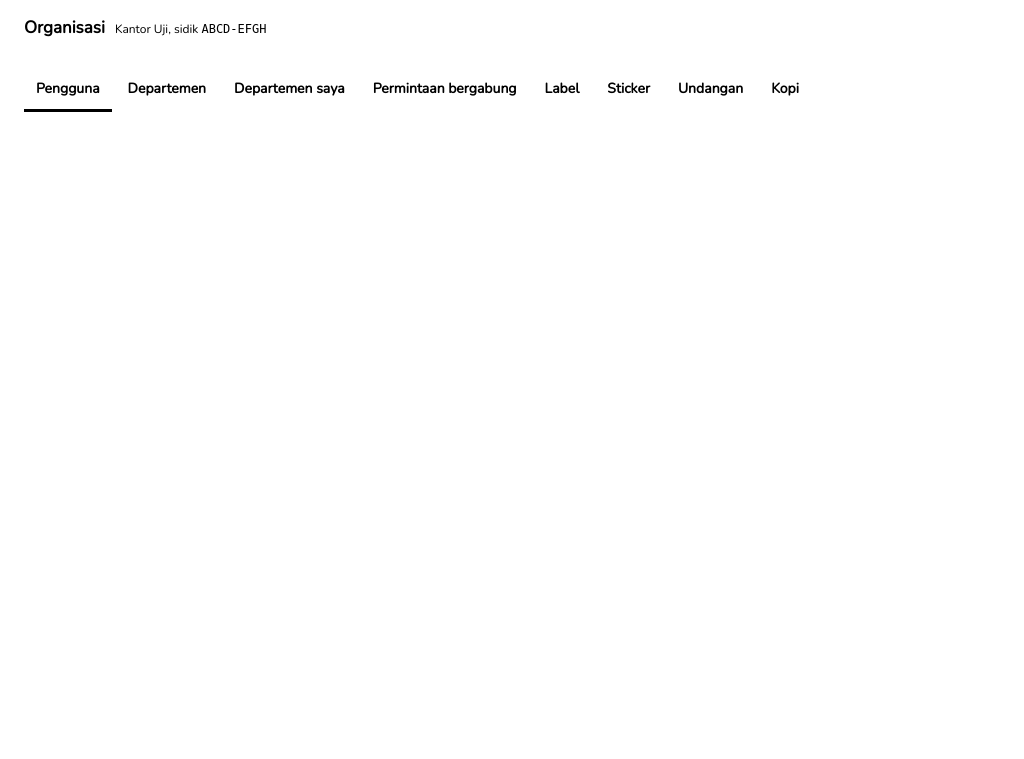
Departemen: keadaan › error menampilkan pesan Rust, Coba lagi memuat ulang
Click the button "Departemen": (167, 90) [116,68,218,112]
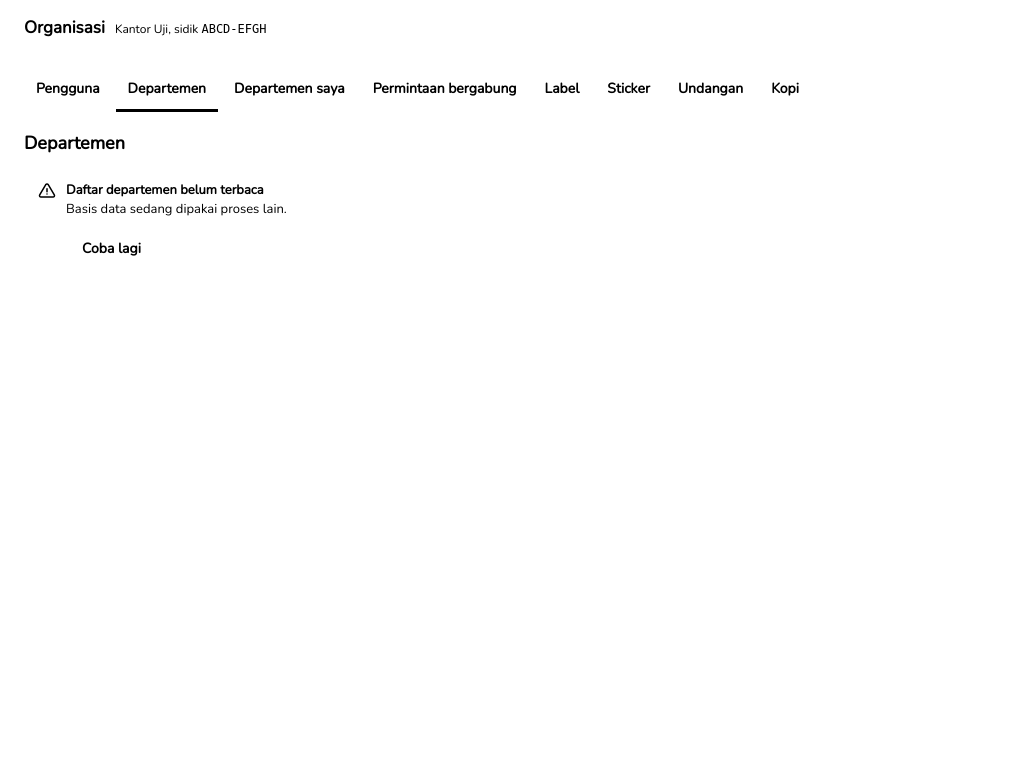
Expected: the message shows "Daftar departemen belum terbaca", [66,180,264,198]
Expected: the message shows "Basis data sedang dipakai proses lain.", [66,200,287,218]
Expected: the heading "Departemen" is shown, [24,130,125,156]
Click the button "Coba lagi": (111, 248) [66,230,157,266]
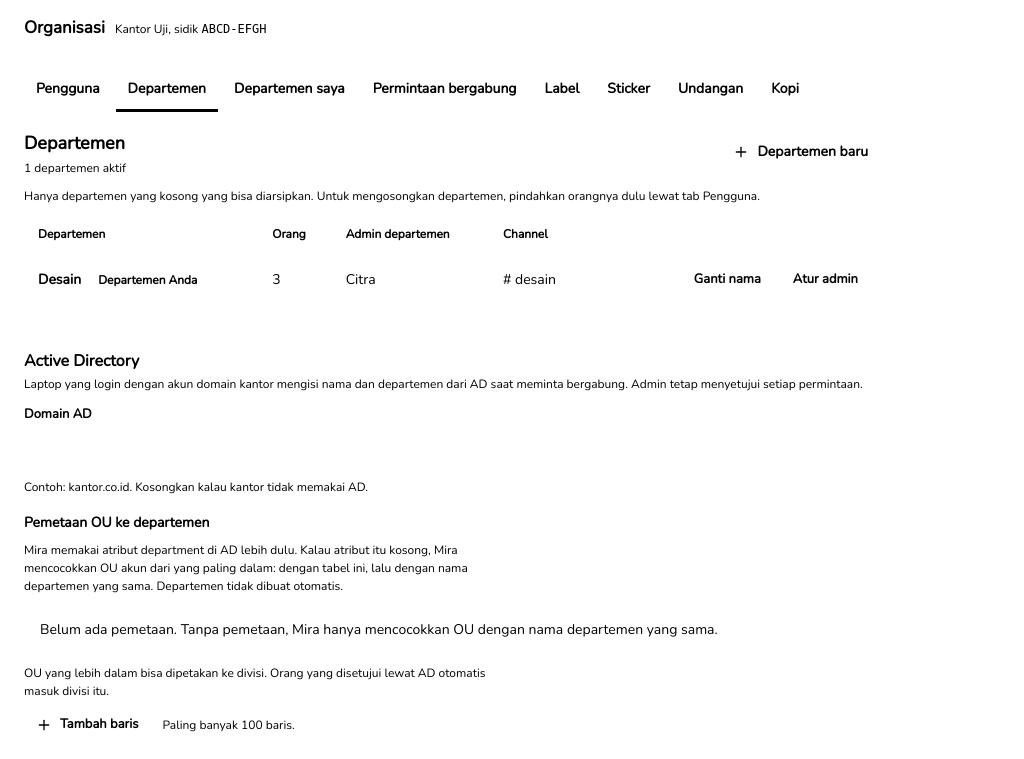
Expected: the table named "Departemen aktif" is shown, [24,214,884,306]
